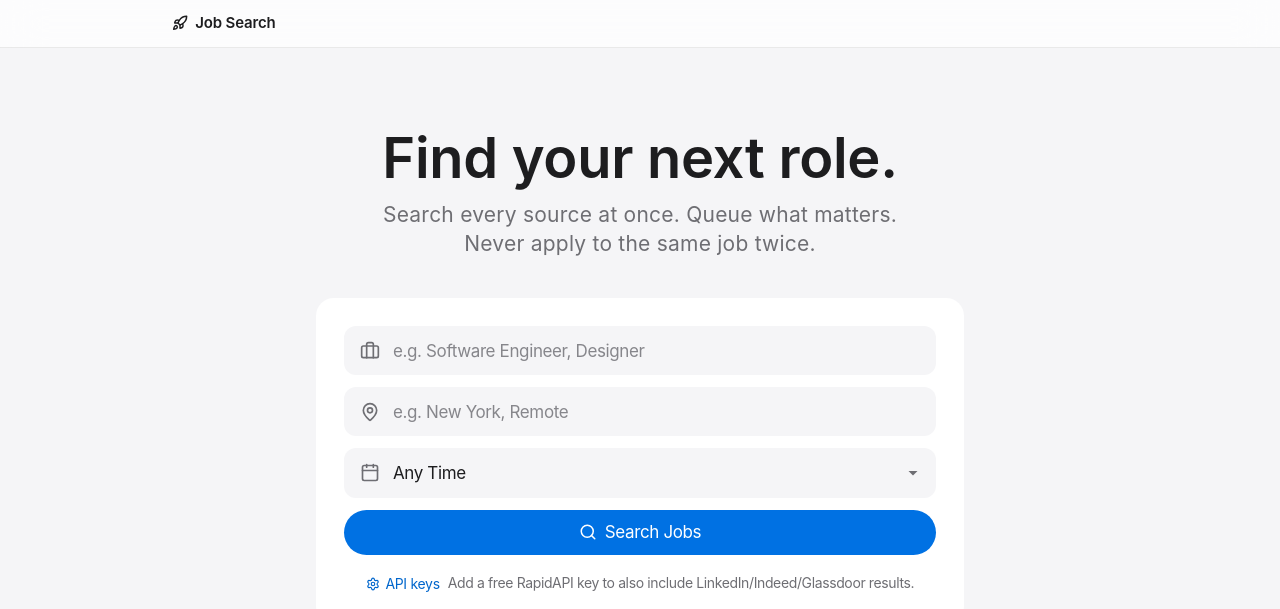
search states › shows a loading state while the search is in flight
In the field named "Job title": (640, 351) top-left (344, 326), bottom-right (936, 375), type "engineer"
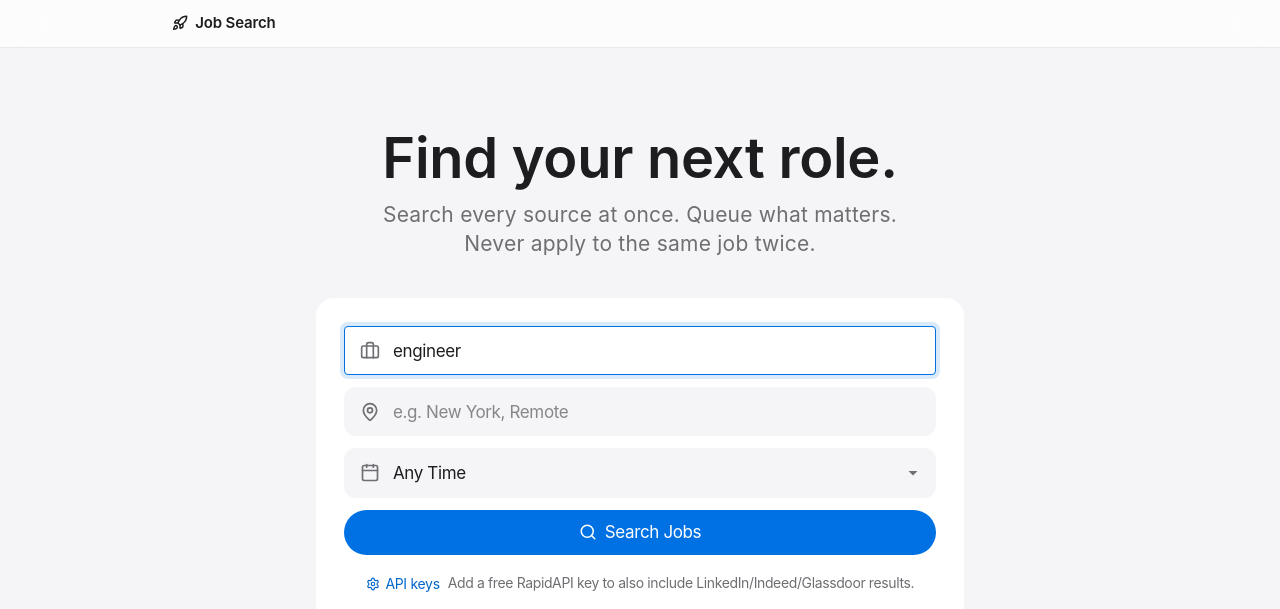
Click the button "Search Jobs": (640, 532) top-left (344, 510), bottom-right (936, 555)
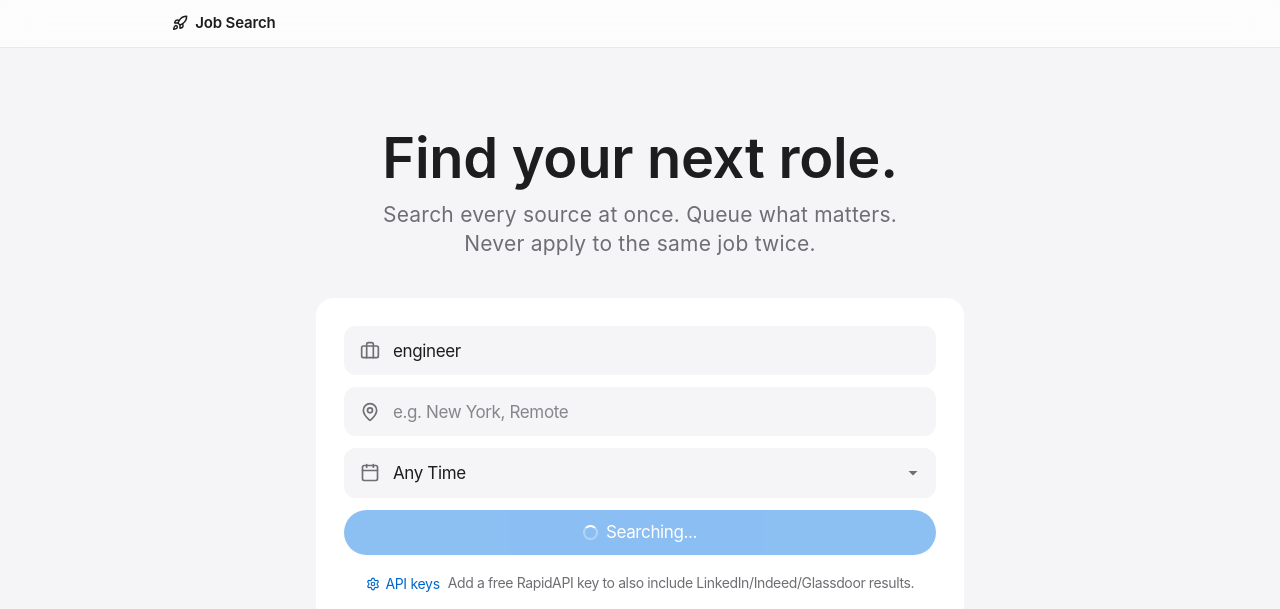
Expected: the button "Searching..." is disabled, top-left (344, 510), bottom-right (936, 555)
